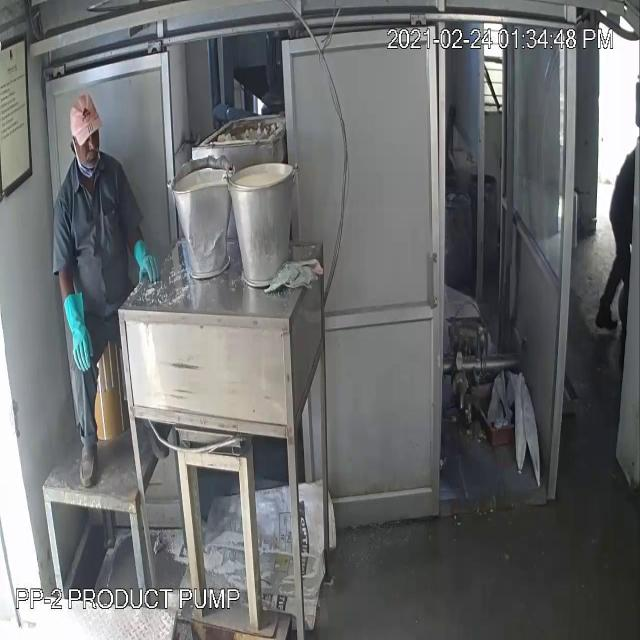no-helmet: (64, 90, 108, 146)
